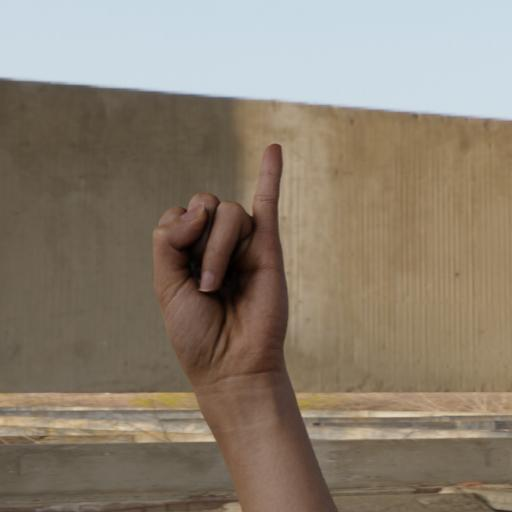I: (134, 137, 308, 402)
